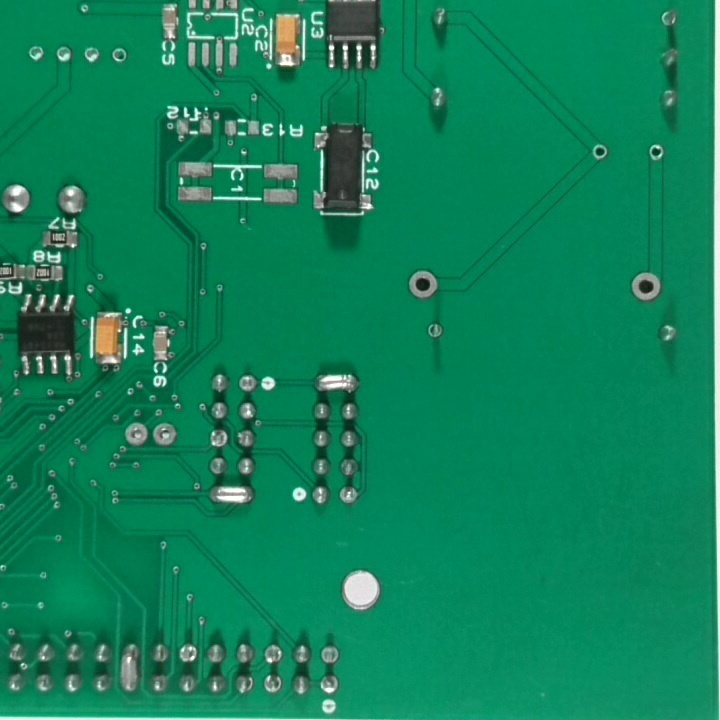F: (404, 266, 441, 306), (630, 269, 661, 306), (152, 418, 179, 450), (121, 419, 148, 451), (318, 672, 342, 700), (337, 483, 360, 509), (176, 640, 199, 666), (261, 671, 283, 698), (657, 8, 683, 30), (208, 426, 230, 451), (53, 43, 76, 66), (236, 372, 258, 395), (81, 45, 103, 67), (24, 42, 45, 65), (424, 320, 445, 343), (588, 143, 611, 163), (109, 45, 130, 65), (646, 142, 666, 163)
P: (116, 640, 144, 696), (310, 371, 364, 398), (204, 483, 259, 507)
